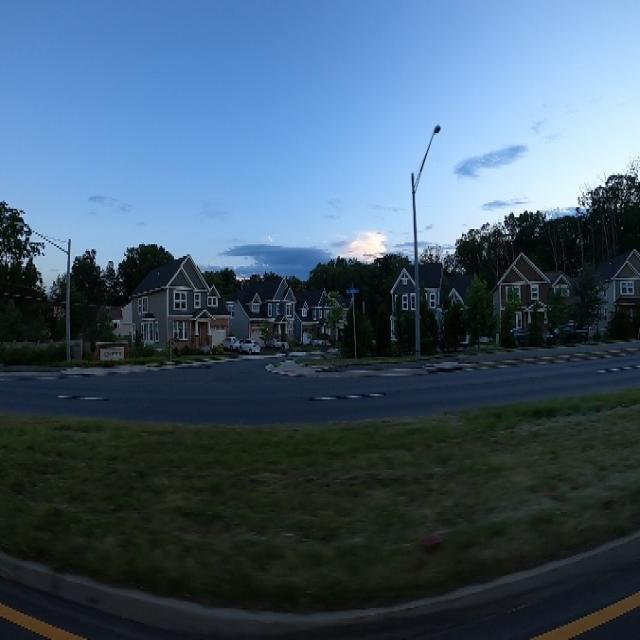cars: (239, 334, 261, 358), (222, 332, 241, 352)
